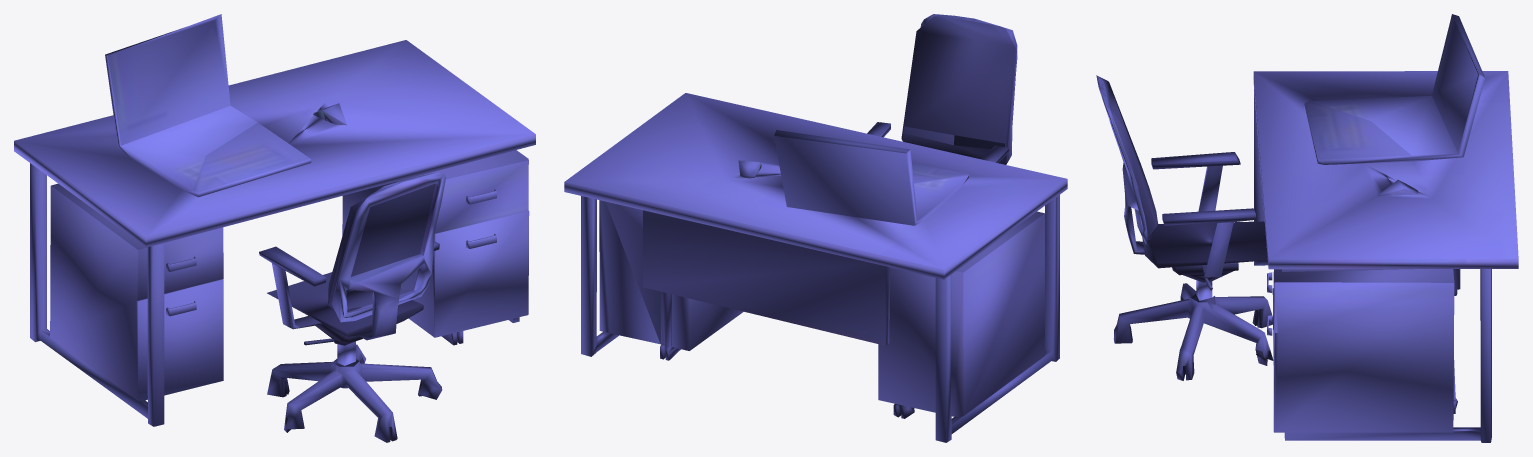
The model's file is model.progressive.glb.
The picture shows the model from 3 angles, left to right: view 1: azimuth 30°, elevation 25°; view 2: azimuth 150°, elevation 25°; view 3: azimuth 270°, elevation 25°; orthographic projection. The views are drawn at different scales.
Visible parts, largest first — view 1: texture_pbr_20250901; view 2: texture_pbr_20250901; view 3: texture_pbr_20250901.
Boxes of the visible parts, x1,y1,x2,y2 form: texture_pbr_20250901: (14,14,535,442); texture_pbr_20250901: (564,14,1067,442); texture_pbr_20250901: (1096,14,1518,442).
Size of the model in its own units: 1.85 by 1.28 by 1.76.
1 material, 1 textured.
